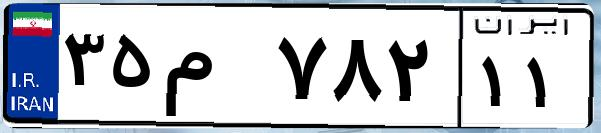1: (475, 38, 525, 113), (525, 38, 570, 115)
2: (385, 28, 445, 110)
3: (57, 26, 110, 100)
5: (110, 28, 158, 98)
7: (270, 28, 330, 110)
8: (330, 28, 385, 110)
م: (158, 20, 270, 120)
